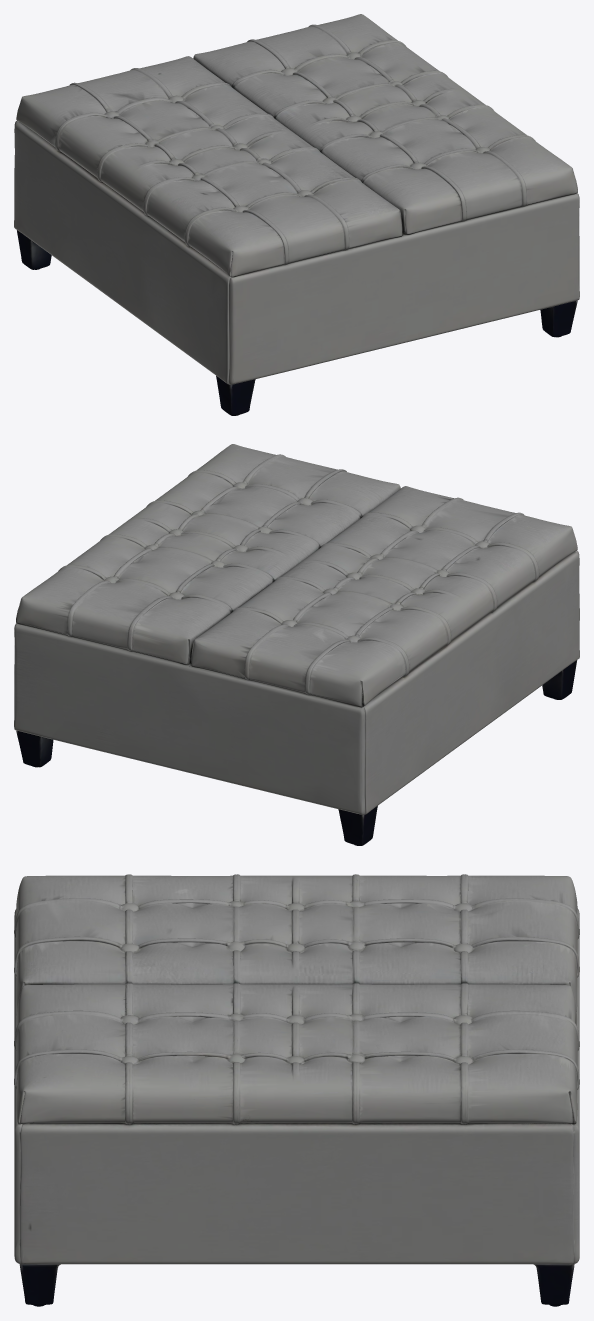
File: c06-realistic.glb
3 renders of one model, top to bottom at view 1: azimuth 30°, elevation 25°; view 2: azimuth 150°, elevation 25°; view 3: azimuth 270°, elevation 25°, orthographic. The views are drawn at different scales.
Parts seen in each view (by area): view 1: node_0; view 2: node_0; view 3: node_0.
Part boxes in pixels (bbox=[...]): node_0: bbox=[14, 14, 579, 415]; node_0: bbox=[14, 444, 579, 845]; node_0: bbox=[14, 874, 579, 1306].
Size of the model in its own units: 0.8117 by 0.3862 by 0.8682.
Materials: 1 (1 with a texture image).
